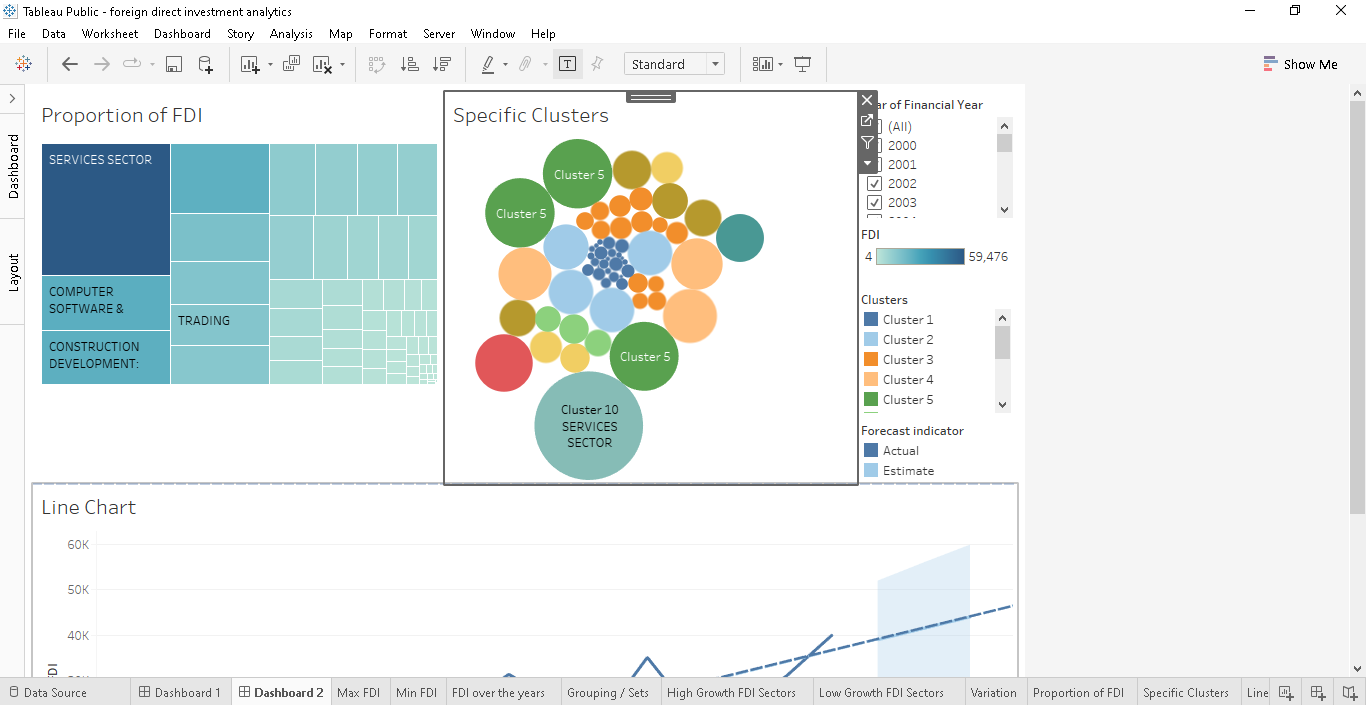

Layout of this report page (visuals, bound fields, positions):
{"tool":"tableau","page":{"name":"Dashboard 2","canvas":[1000,800],"ordinal":1},"visuals":[{"type":"worksheet","title":"Proportion of FDI","mark":"Automatic","box":[8,8,412,392]},{"type":"worksheet","title":"Specific Clusters","mark":"Circle","box":[420,8,412,392]},{"type":"filter","title":"Proportion of FDI","param":"[federated.0mrjegp0n5ya1v17lenrx1ktdklb].[yr:Calculation_936467257374990342:ok]","box":[832,8,160,128.5]},{"type":"legend","title":"Proportion of FDI","param":"[federated.0mrjegp0n5ya1v17lenrx1ktdklb].[sum:Pivot Field Values:qk]","box":[832,136.5,160,68]},{"type":"legend","title":"Specific Clusters","param":"[federated.0mrjegp0n5ya1v17lenrx1ktdklb].[none:AdhocCluster:1:ok]","box":[832,204.5,160,128.5]},{"type":"legend","title":"Line Chart","param":"[federated.0mrjegp0n5ya1v17lenrx1ktdklb].[none:Forecast Indicator:nk]","box":[832,333,160,67]},{"type":"worksheet","title":"Line Chart","mark":"Automatic","rows":["Pivot Field Values"],"cols":["Calculation_936467257374990342"],"box":[8,400,984,392]}]}

Visuals, with their boxes on the page's 1000x800 design canvas (x1, y1, x2, y2). These are canvas units, not pixel positions in the 1366x705 screenshot, which may show the page scaled, cropped or inside an application window:
"Proportion of FDI" worksheet: <region>8, 8, 420, 400</region>
"Specific Clusters" worksheet (Circle marks): <region>420, 8, 832, 400</region>
"Proportion of FDI" filter: <region>832, 8, 992, 136</region>
"Proportion of FDI" legend: <region>832, 136, 992, 204</region>
"Specific Clusters" legend: <region>832, 204, 992, 333</region>
"Line Chart" legend: <region>832, 333, 992, 400</region>
"Line Chart" worksheet: <region>8, 400, 992, 792</region>
